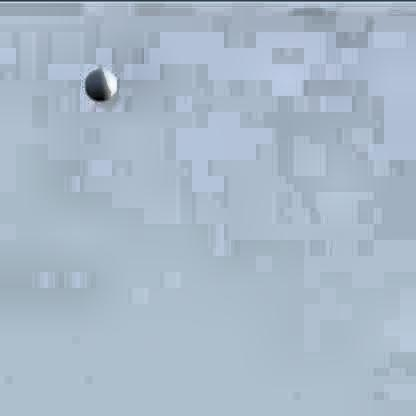golfball: (82, 62, 115, 98)
